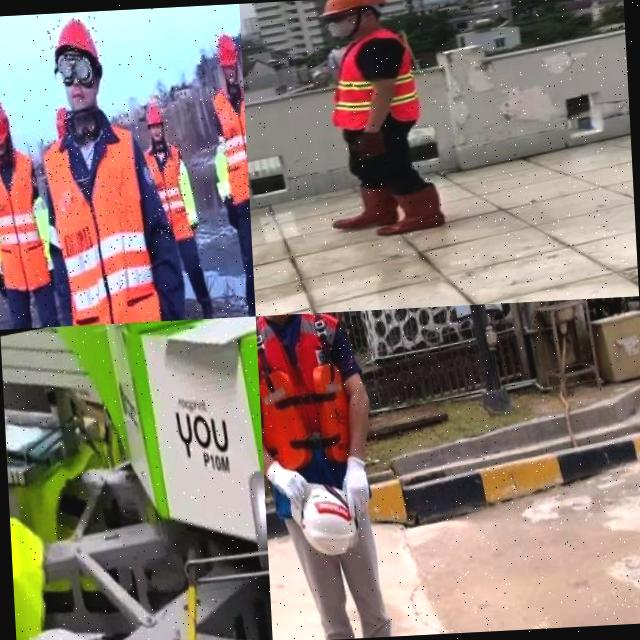boots: (373, 184, 452, 238), (328, 183, 402, 234)
helmet: (282, 474, 365, 566), (45, 14, 105, 75), (313, 0, 389, 18), (212, 30, 241, 71), (143, 100, 166, 130), (0, 97, 12, 145), (54, 104, 72, 132)
vest: (33, 116, 171, 328), (256, 311, 376, 520), (322, 31, 428, 135), (0, 143, 56, 297), (10, 510, 71, 640), (141, 140, 198, 246), (206, 80, 250, 212)
